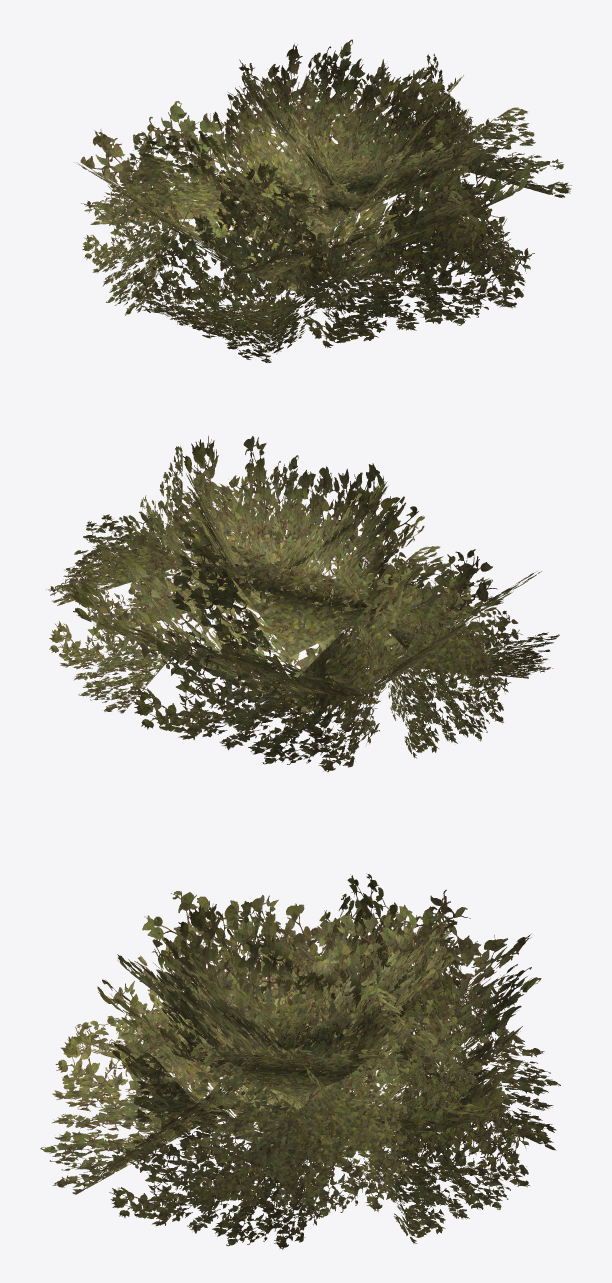
Rendered from shrb_giantlickbush_ltgreen_a1_l1.fbx.
3 renders of one model, top to bottom at view 1: azimuth 30°, elevation 25°; view 2: azimuth 150°, elevation 25°; view 3: azimuth 270°, elevation 25°, orthographic. The views are drawn at different scales.
Parts seen in each view (by area): view 1: mesh_node; view 2: mesh_node; view 3: mesh_node.
Boxes of the visible parts, x1=… form: mesh_node: x1=76, y1=39, x2=571, y2=362; mesh_node: x1=46, y1=435, x2=559, y2=772; mesh_node: x1=40, y1=873, x2=560, y2=1249.
Size of the model in its own units: 4.02 by 1.92 by 3.49.
